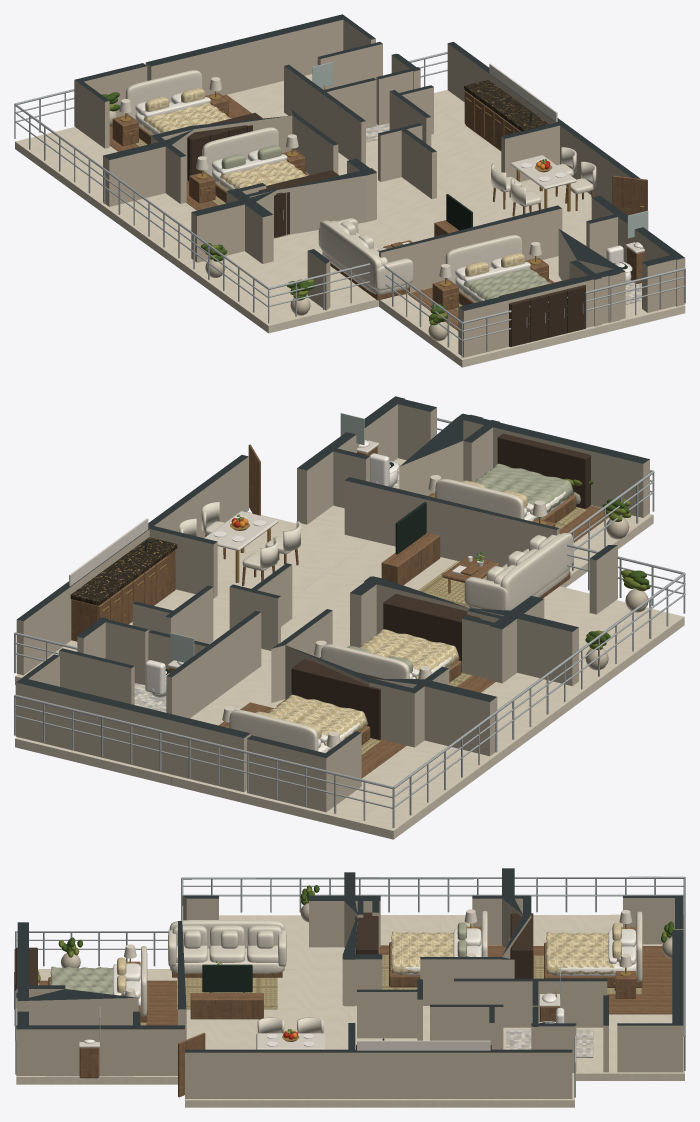
3 renders of one model, top to bottom at view 1: azimuth 30°, elevation 25°; view 2: azimuth 150°, elevation 25°; view 3: azimuth 270°, elevation 25°, orthographic. The views are drawn at different scales.
Parts seen in each view (by area): view 1: Source-traced internal and perimeter walls • Wall, Continuous apartment foundation, Sofa back, Padded headboard, Padded headboard.002, Padded headboard.001, Deep green kitchen stone, Soft jacquard duvet with folds.002, Soft jacquard duvet with folds, Soft jacquard duvet with folds.001, Oak entrance door, Dining top (+14 smaller); view 2: Source-traced internal and perimeter walls • Wall, Continuous apartment foundation, Fitted dark wardrobe, Fitted dark wardrobe.002, Fitted dark wardrobe.001, Sofa back, Deep green kitchen stone, Soft jacquard duvet with folds.002, Soft jacquard duvet with folds, Soft jacquard duvet with folds.001, Padded headboard, Padded headboard.002 (+18 smaller); view 3: Source-traced internal and perimeter walls • Wall, Continuous apartment foundation, Full bedroom wood flooring, Soft jacquard duvet with folds, Soft jacquard duvet with folds.001, Walnut media console, Television, Backsplash, Full bedroom wood flooring.002, Soft jacquard duvet with folds.002, Balcony top rail.005, Fitted dark wardrobe (+25 smaller).
Boxes of the visible parts, left/top/right/bottom form: Source-traced internal and perimeter walls • Wall: left=74, top=14, right=685, bottom=357; Continuous apartment foundation: left=15, top=74, right=685, bottom=367; Sofa back: left=319, top=220, right=381, bottom=288; Padded headboard: left=125, top=70, right=202, bottom=119; Padded headboard.002: left=445, top=235, right=522, bottom=283; Padded headboard.001: left=202, top=127, right=278, bottom=176; Deep green kitchen stone: left=464, top=80, right=548, bottom=130; Soft jacquard duvet with folds.002: left=461, top=267, right=550, bottom=301; Soft jacquard duvet with folds: left=141, top=103, right=231, bottom=134; Soft jacquard duvet with folds.001: left=218, top=160, right=307, bottom=190; Oak entrance door: left=612, top=175, right=647, bottom=215; Dining top: left=510, top=155, right=576, bottom=189; Source-traced internal and perimeter walls • Wall: left=15, top=396, right=649, bottom=812; Continuous apartment foundation: left=15, top=458, right=684, bottom=839; Fitted dark wardrobe: left=291, top=659, right=383, bottom=739; Fitted dark wardrobe.002: left=497, top=433, right=590, bottom=508; Fitted dark wardrobe.001: left=383, top=594, right=480, bottom=671; Sofa back: left=500, top=532, right=572, bottom=610; Deep green kitchen stone: left=70, top=537, right=177, bottom=603; Soft jacquard duvet with folds.002: left=475, top=463, right=573, bottom=519; Soft jacquard duvet with folds: left=269, top=694, right=367, bottom=750; Soft jacquard duvet with folds.001: left=360, top=629, right=459, bottom=678; Padded headboard: left=229, top=710, right=318, bottom=751; Padded headboard.002: left=435, top=478, right=524, bottom=519; Source-traced internal and perimeter walls • Wall: left=16, top=868, right=683, bottom=1098; Continuous apartment foundation: left=16, top=914, right=684, bottom=1107; Full bedroom wood flooring: left=533, top=946, right=672, bottom=1014; Soft jacquard duvet with folds: left=546, top=932, right=614, bottom=974; Soft jacquard duvet with folds.001: left=391, top=931, right=453, bottom=974; Walnut media console: left=190, top=993, right=263, bottom=1019; Television: left=202, top=964, right=252, bottom=992; Backsplash: left=357, top=1040, right=490, bottom=1050; Full bedroom wood flooring.002: left=38, top=980, right=177, bottom=1025; Soft jacquard duvet with folds.002: left=50, top=966, right=113, bottom=994; Balcony top rail.005: left=182, top=876, right=684, bottom=879; Fitted dark wardrobe: left=511, top=913, right=533, bottom=978.
Bounding box in the file's own units: 9.64 × 1.7 × 14.69.
26 materials, 6 textured.
